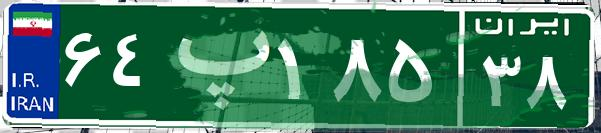1: (273, 28, 330, 110)
3: (475, 38, 525, 113)
4: (110, 28, 158, 105)
5: (385, 28, 445, 110)
6: (57, 26, 110, 107)
8: (330, 28, 385, 110), (525, 38, 570, 115)
پ: (158, 15, 273, 115)
